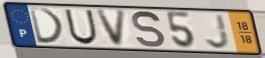5: (164, 10, 197, 52)
D: (27, 6, 67, 45)
J: (203, 13, 232, 50)
S: (131, 10, 167, 49)
U: (63, 8, 99, 46)
V: (94, 9, 129, 48)
